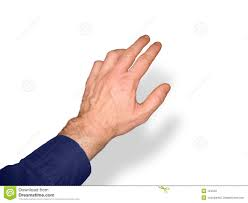hand: (57, 24, 191, 145)
